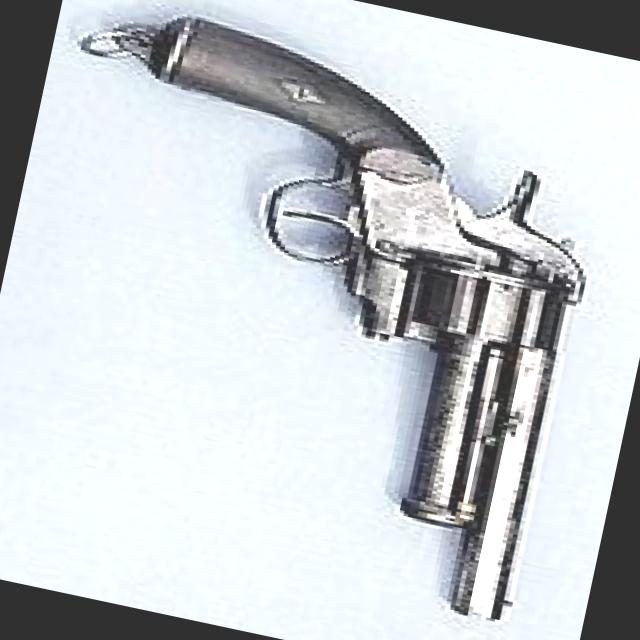handgun: (53, 0, 634, 628)
